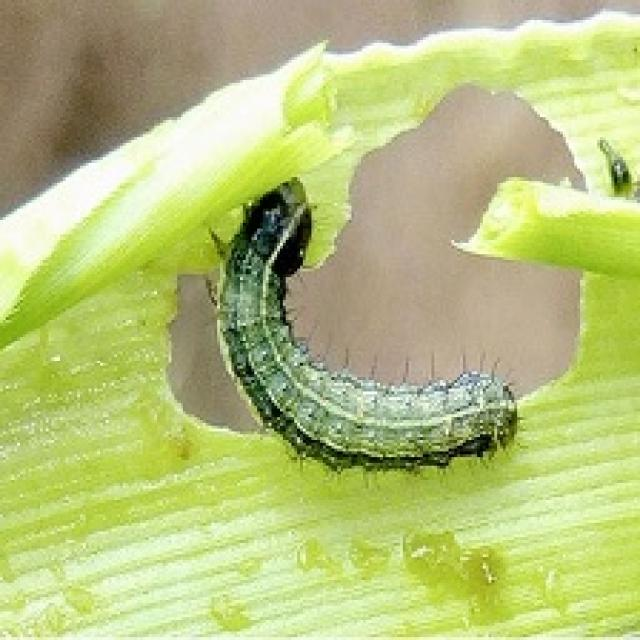Fall-armyworm: (207, 173, 518, 485)
